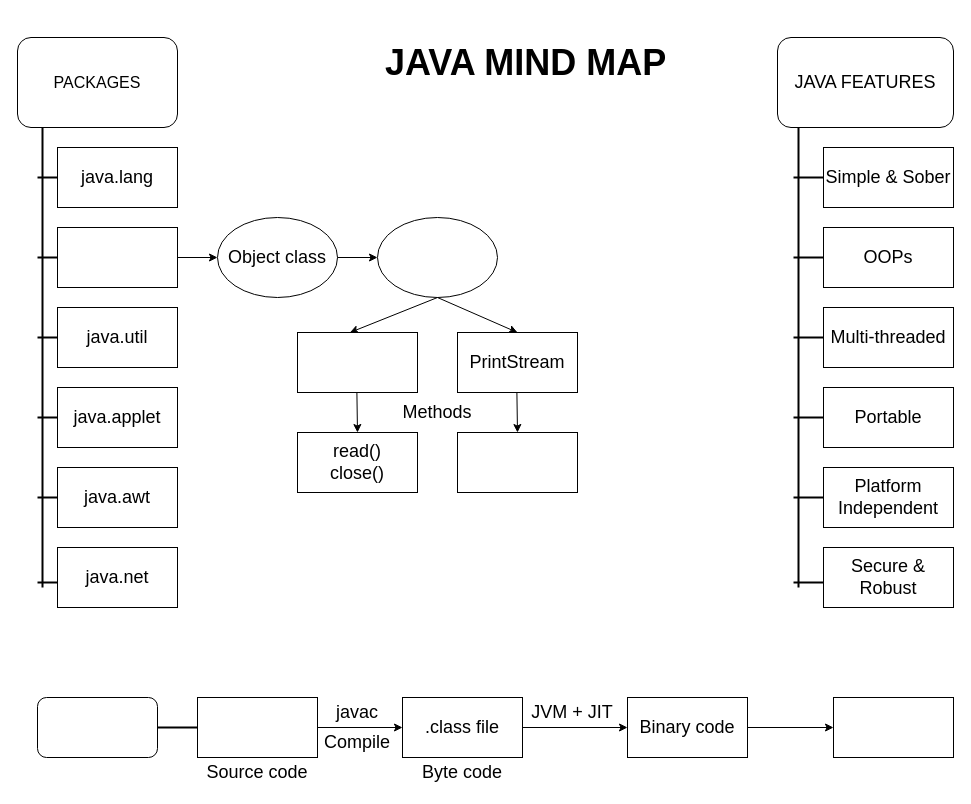
Image size: 971x804. Some labels were removed from this diagram. Each missing label, with the centre of its shape:
".java file" goes at (x=257, y=727).
"Execute" goes at (x=893, y=727).
"FILE EXECUTION" goes at (x=97, y=727).
"InputStream" goes at (x=357, y=362).
"java.io" goes at (x=117, y=257).
"print() println()" goes at (x=517, y=462).
"System class" goes at (x=437, y=257).
